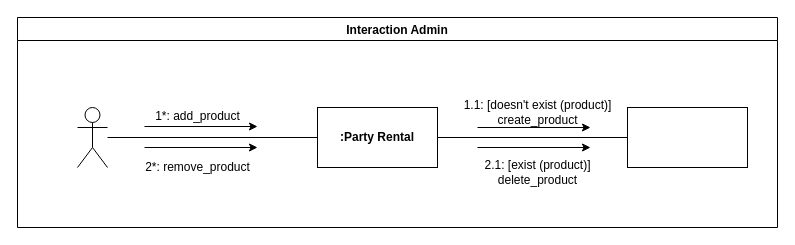
This 795x245 diagram has some shape labels left out. The centre of each missing label's shape, as x and y in pixels:
:Stock: the point at 687,137
Admin: the point at 92,137
